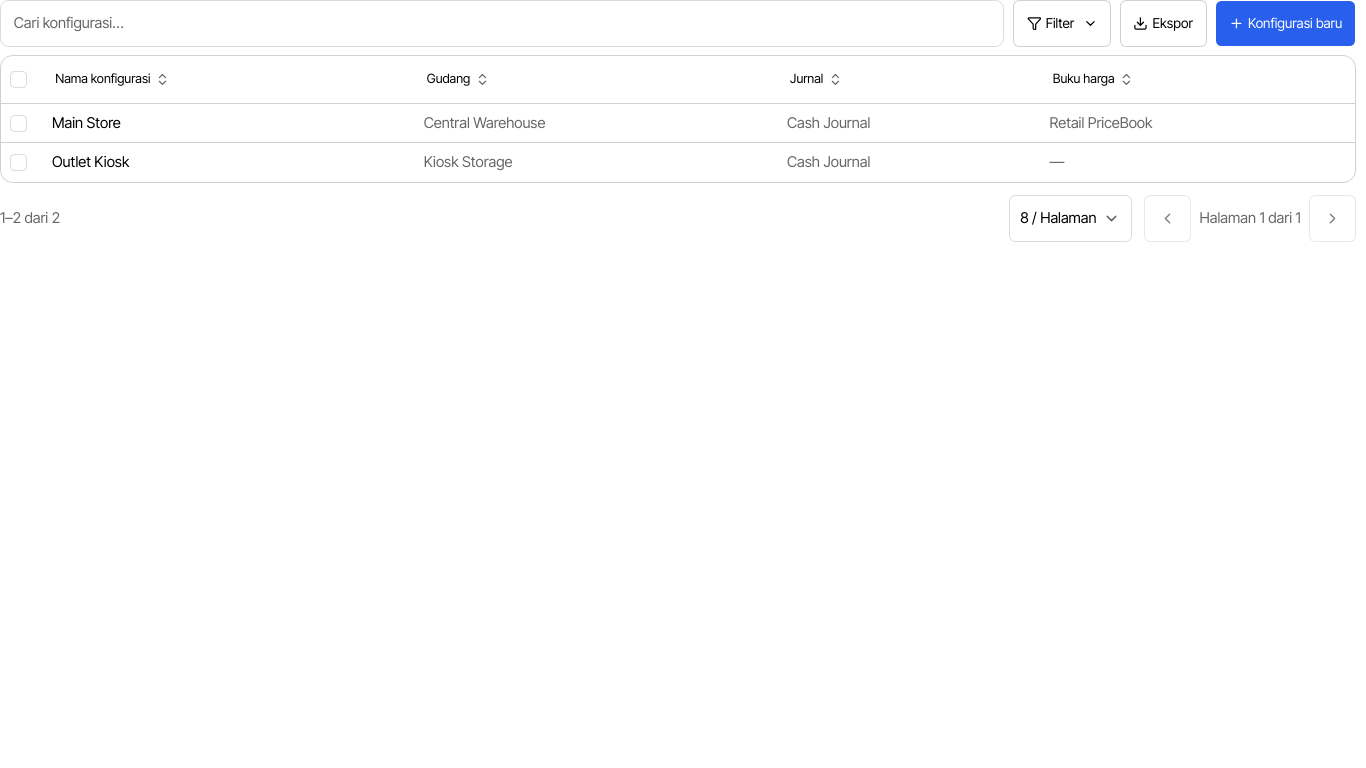
Test: PosConfigsSection › opens the create dialog from the add button
This screenshot has width=1366, height=768.
Expected: the text "Main Store" is shown, [52,114,121,132]
Click the button "Konfigurasi baru".
click(1286, 23)  # box [1215,0,1356,47]
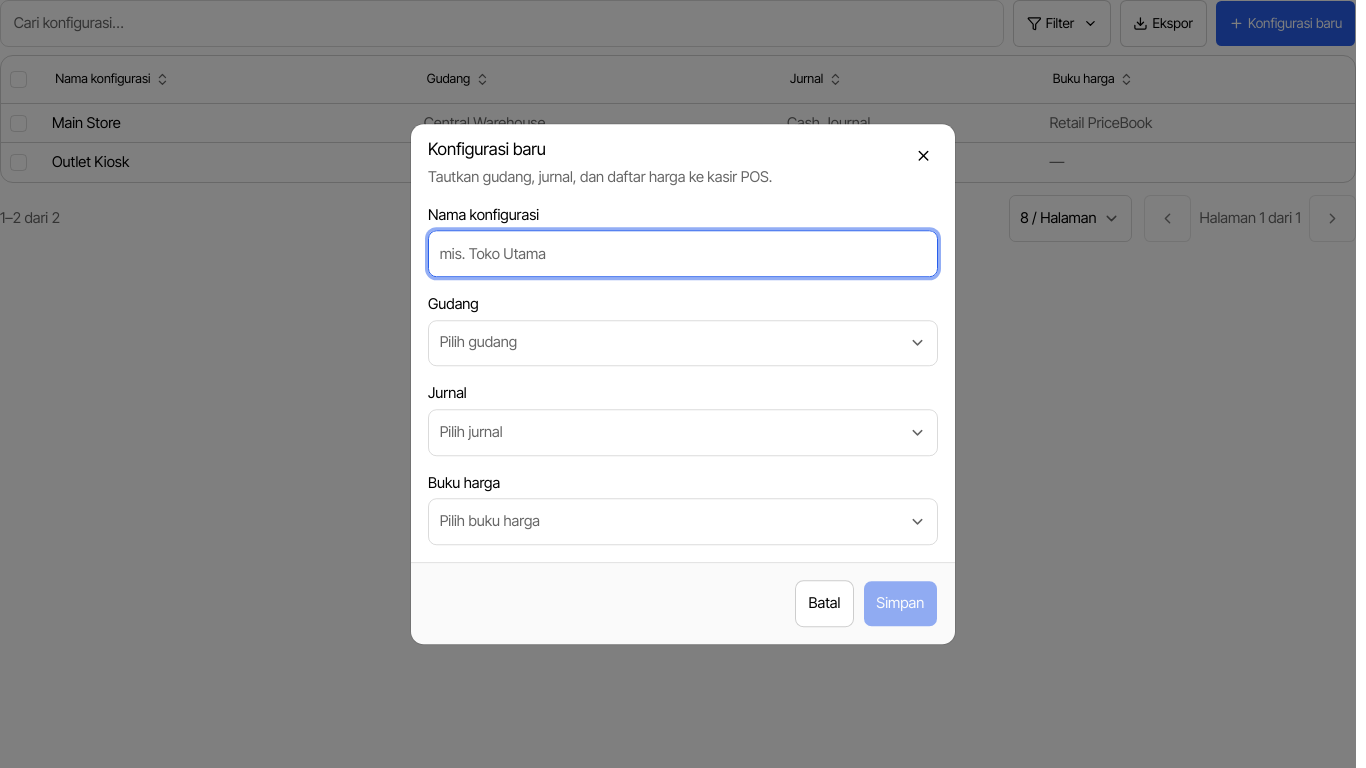
Expected: the heading "Konfigurasi baru" is shown, [428,139,546,159]
